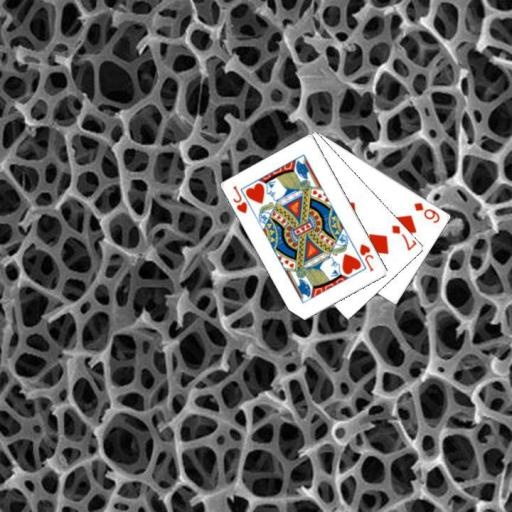6D: (411, 199, 442, 225)
7D: (389, 222, 417, 252)
JH: (230, 183, 249, 215), (357, 241, 375, 273)
